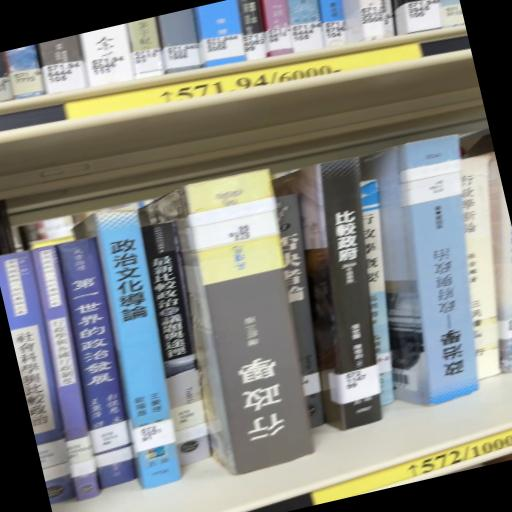reverse: (139, 170, 314, 474), (361, 135, 478, 406)
